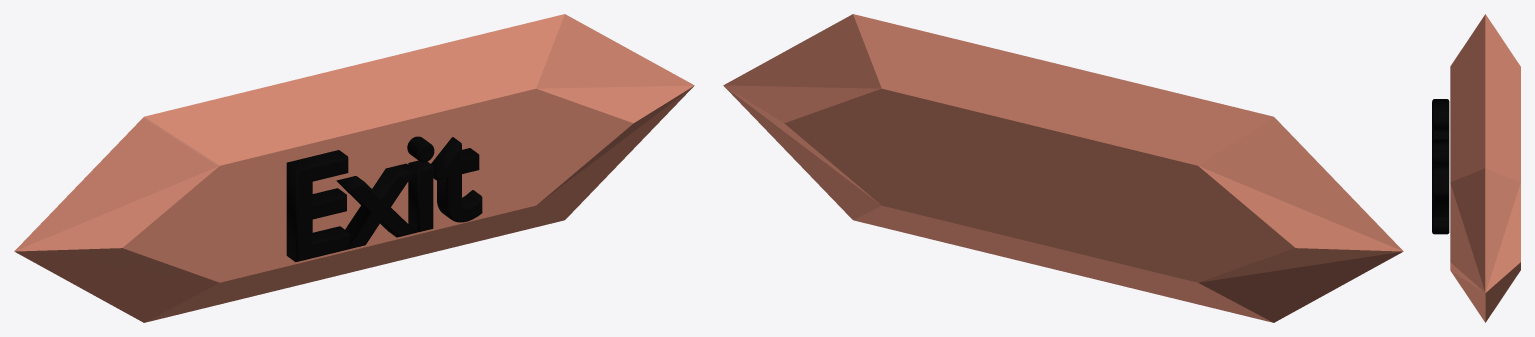
The model's file is Exit.obj.
The picture shows the model from 3 angles, left to right: view 1: azimuth 30°, elevation 25°; view 2: azimuth 150°, elevation 25°; view 3: azimuth 270°, elevation 25°; orthographic projection. The views are drawn at different scales.
Parts seen in each view (by area): view 1: 立方体.001, テキスト.001; view 2: 立方体.001; view 3: 立方体.001, テキスト.001.
Boxes of the visible parts, x1,y1,x2,y2 form: 立方体.001: [14, 14, 694, 322]; テキスト.001: [286, 136, 482, 261]; 立方体.001: [723, 14, 1403, 322]; 立方体.001: [1450, 14, 1520, 322]; テキスト.001: [1432, 99, 1449, 234].
Bounding box in the file's own units: 2.07 × 0.6 × 0.3117.
1 material, 1 textured.
